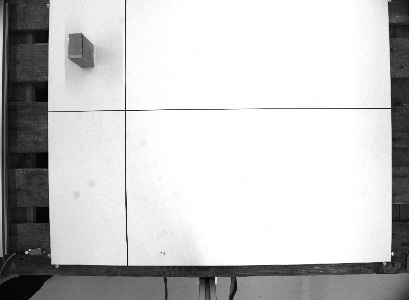b1: (65, 31, 98, 69)
